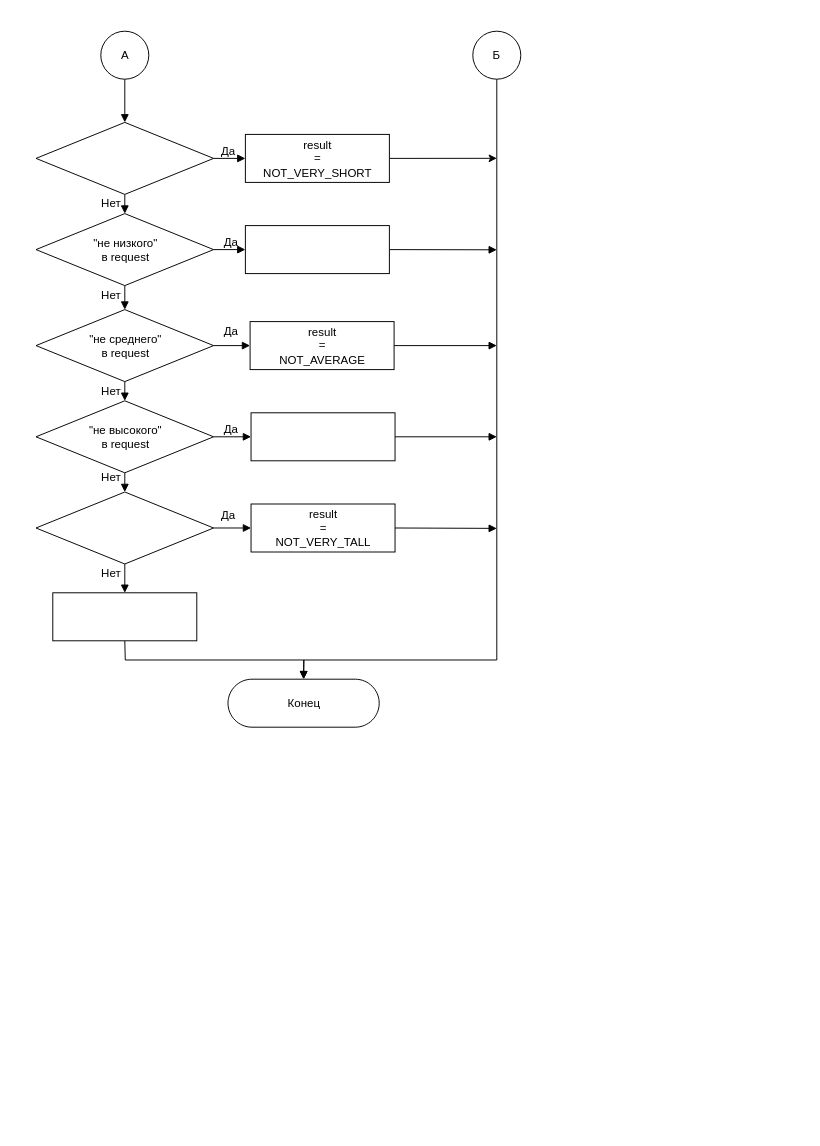
Image size: 820x1146. Some labels were removed from this diagram. Each missing label, with the centre of its shape:
"не очень высокого" в request: point (124, 527)
"не очень низкого" в request: point (124, 157)
result = NOT_SHORT: point (316, 249)
result = NOT_TALL: point (322, 436)
Вывести сообщения о некорректности запроса: point (124, 616)
